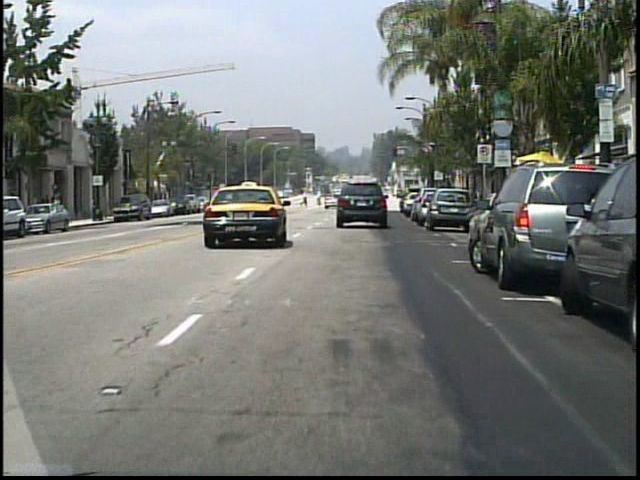person: (54, 193, 65, 224), (316, 189, 324, 208), (301, 191, 308, 209)
